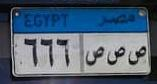6: (55, 36, 72, 68), (23, 36, 38, 70), (39, 37, 54, 69)
saad: (126, 44, 147, 68), (106, 43, 126, 67), (84, 45, 105, 67)
